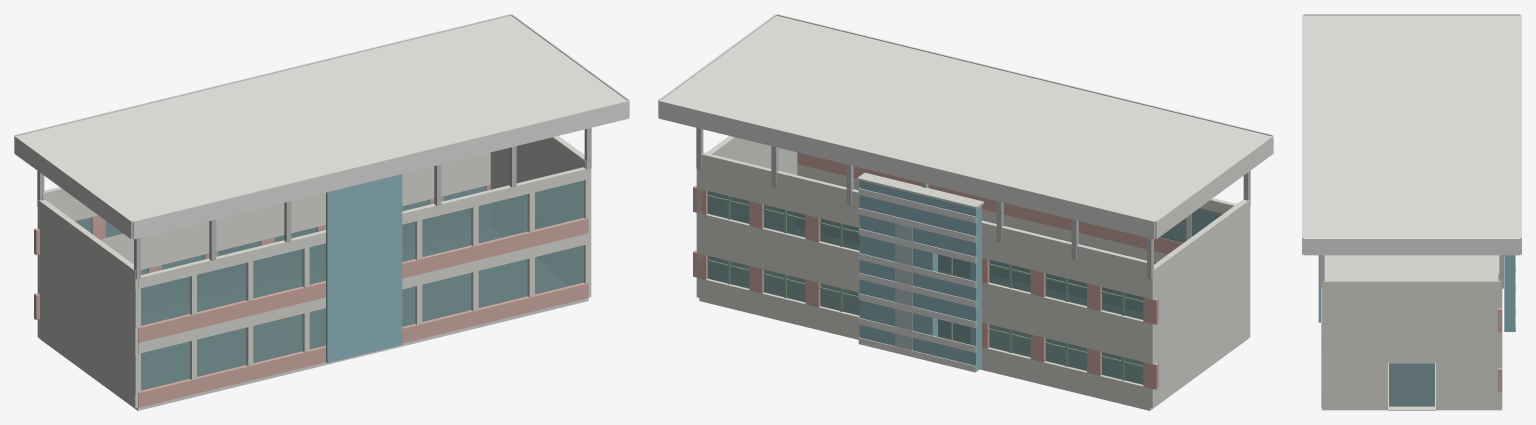
The picture shows the model from 3 angles, left to right: view 1: azimuth 30°, elevation 25°; view 2: azimuth 150°, elevation 25°; view 3: azimuth 270°, elevation 25°; orthographic projection. The views are drawn at different scales.
Parts seen in each view (by area): view 1: c15__roofHood, c15__side-1, c15__teal, c15__roofHoodEdgeback, c15__sill0, c15__sill1, c15__photoBeam0, c15__beam1, c15__beam0, c15__photoSill1, c15__sideTop, c15__roofHoodEdgeL (+16 smaller); view 2: c15__roofHood, c15__side-1, c15__roofHoodEdgefront, c15__photoSill1, c15__photoSill0, c15__photoBeam0, c15__photoBeam1, c15__photoUpperGuard, c15__sill1, c15__coreUpperSolid, c15__beam0, c15__roofHoodEdgeL (+33 smaller); view 3: c15__roofHood, c15__sideTop, c15__base, c15__roofHoodEdgeR, c15__sideB, c15__sideA, c15__sideDoor, c15__roofHoodEdgefront, c15__roofHoodEdgeback, c15__roofHoodEdgeL, c15__corePier(0, -0.8), c15__sideThreshold (+1 smaller).
Part boxes in pixels (x1,y1,x2,y2): c15__roofHood: [17, 15, 626, 220]; c15__side-1: [37, 199, 137, 408]; c15__teal: [326, 174, 402, 362]; c15__roofHoodEdgeback: [132, 100, 629, 239]; c15__sill0: [138, 282, 588, 407]; c15__sill1: [138, 218, 588, 342]; c15__photoBeam0: [120, 164, 490, 269]; c15__beam1: [138, 167, 588, 288]; c15__beam0: [138, 233, 588, 353]; c15__photoSill1: [100, 152, 490, 254]; c15__sideTop: [490, 136, 591, 249]; c15__roofHoodEdgeL: [14, 135, 132, 239]; c15__roofHood: [661, 15, 1270, 220]; c15__side-1: [1147, 199, 1250, 408]; c15__roofHoodEdgefront: [658, 100, 1155, 239]; c15__photoSill1: [699, 214, 1149, 342]; c15__photoSill0: [699, 278, 1149, 407]; c15__photoBeam0: [699, 234, 1149, 363]; c15__photoBeam1: [700, 169, 1149, 298]; c15__photoUpperGuard: [701, 152, 1146, 277]; c15__sill1: [797, 152, 1182, 254]; c15__coreUpperSolid: [859, 180, 981, 241]; c15__beam0: [797, 164, 1167, 262]; c15__roofHoodEdgeL: [1155, 135, 1273, 239]; c15__roofHood: [1303, 15, 1520, 238]; c15__sideTop: [1321, 279, 1502, 363]; c15__base: [1321, 255, 1502, 410]; c15__roofHoodEdgeR: [1303, 238, 1520, 255]; c15__sideB: [1321, 363, 1387, 408]; c15__sideA: [1436, 363, 1502, 408]; c15__sideDoor: [1389, 363, 1434, 406]; c15__roofHoodEdgefront: [1520, 14, 1521, 254]; c15__roofHoodEdgeback: [1302, 14, 1303, 254]; c15__roofHoodEdgeL: [1303, 14, 1520, 15]; c15__corePier(0, -0.8): [1504, 291, 1515, 313]; c15__sideThreshold: [1388, 404, 1435, 410].
Bounding box in the file's own units: 26.56 × 10.21 × 10.96.
